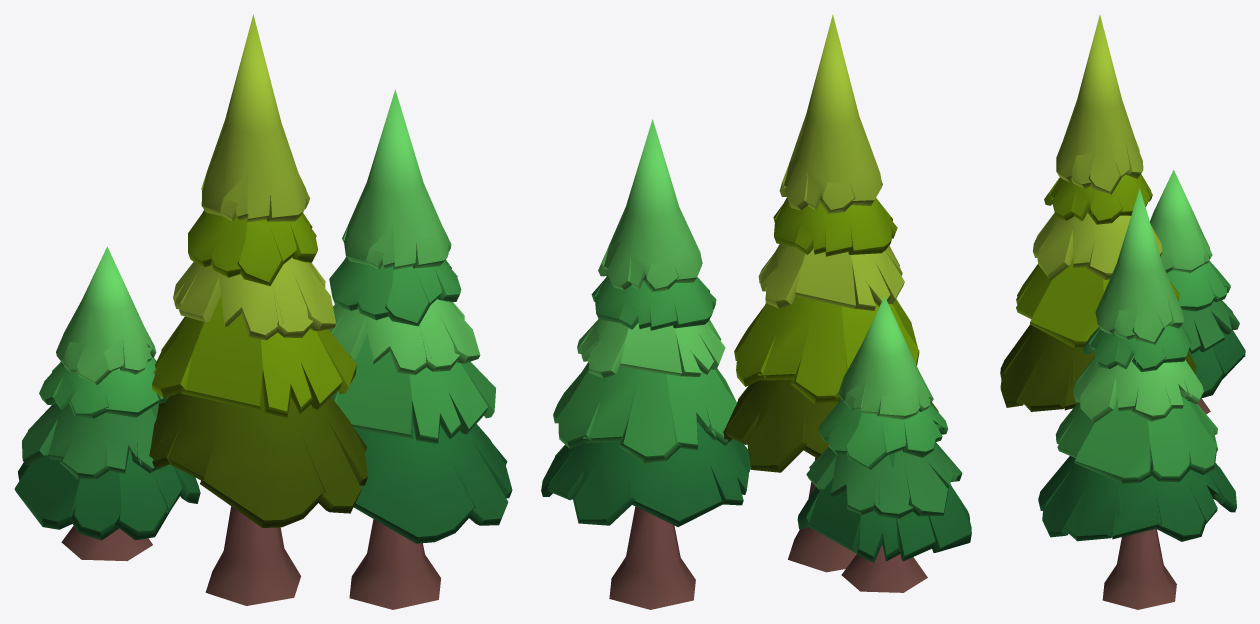
3 views of the same model, side by side, from view 1: azimuth 30°, elevation 25°; view 2: azimuth 150°, elevation 25°; view 3: azimuth 270°, elevation 25° (orthographic). The views are drawn at different scales.
Parts seen in each view (by area): view 1: Pine_tree_03__1_, Pine_tree_01__1_, Pine_tree_02__1_; view 2: Pine_tree_01__1_, Pine_tree_03__1_, Pine_tree_02__1_; view 3: Pine_tree_01__1_, Pine_tree_03__1_, Pine_tree_02__1_.
Boxes of the visible parts, <box> form: Pine_tree_03__1_: <box>149,14,367,605</box>; Pine_tree_01__1_: <box>329,89,512,609</box>; Pine_tree_02__1_: <box>14,246,200,561</box>; Pine_tree_01__1_: <box>541,119,750,609</box>; Pine_tree_03__1_: <box>723,14,938,572</box>; Pine_tree_02__1_: <box>797,296,971,592</box>; Pine_tree_01__1_: <box>1038,188,1236,609</box>; Pine_tree_03__1_: <box>1000,15,1196,411</box>; Pine_tree_02__1_: <box>1150,170,1245,414</box>.
Bounding box in the file's own units: 1209 × 1659 × 719.
Materials: 1 (1 with a texture image).
